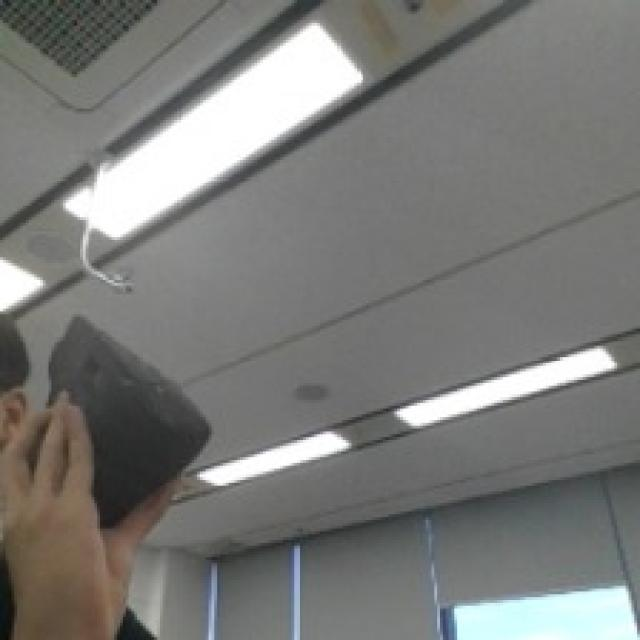shoe: (19, 275, 250, 546)
